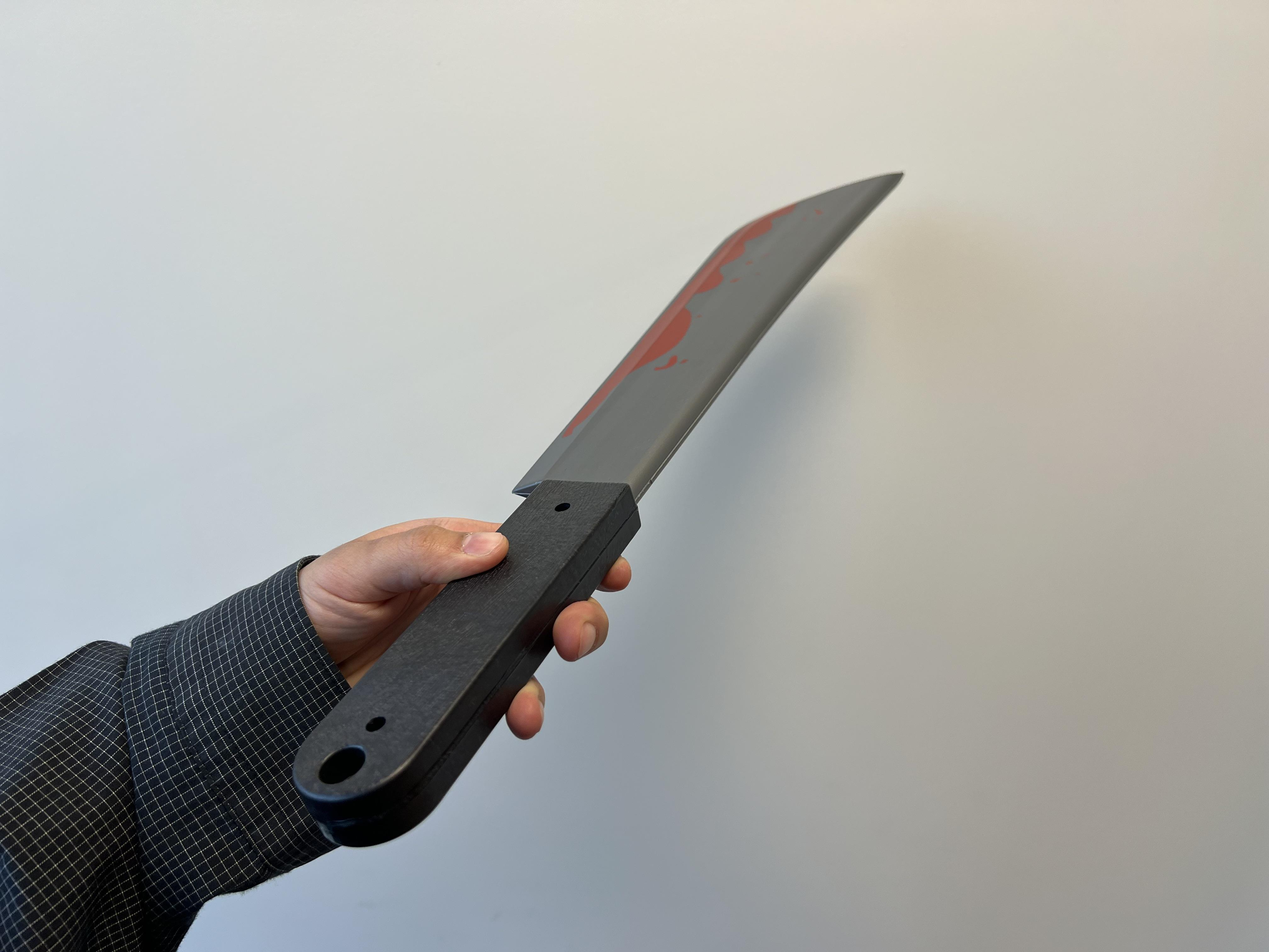Knife: (0, 517, 633, 952), (507, 172, 901, 557), (311, 517, 634, 762)
